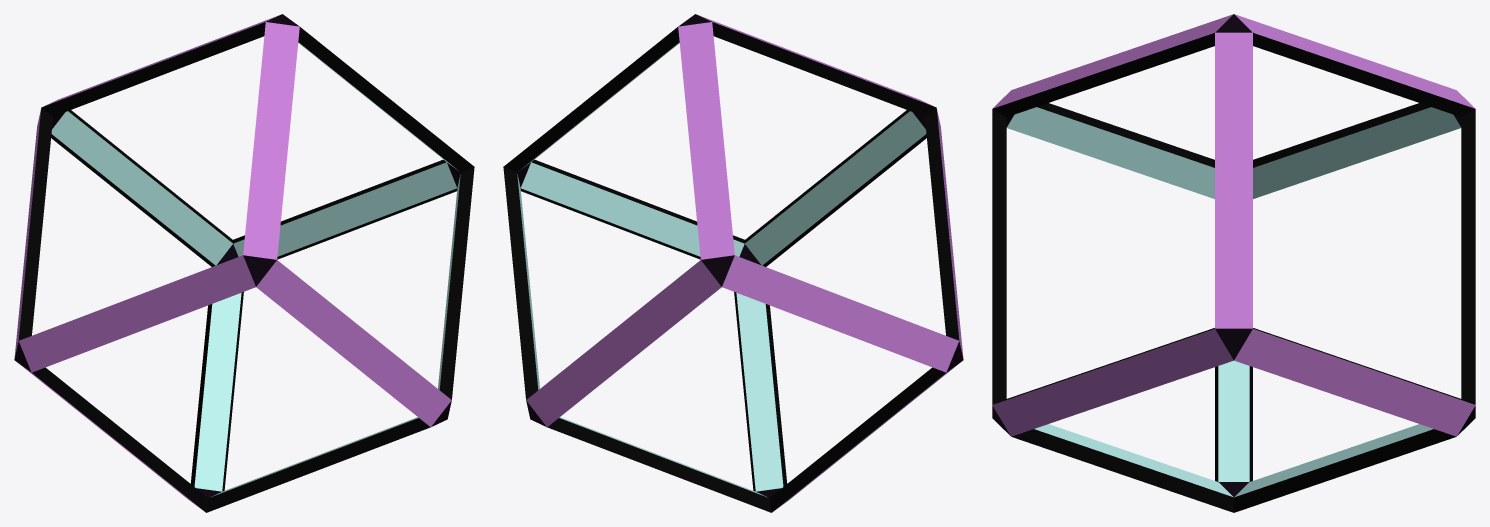
The model's file is aether.fbx.
3 renders of one model, left to right at view 1: azimuth 30°, elevation 25°; view 2: azimuth 150°, elevation 25°; view 3: azimuth 270°, elevation 25°, orthographic. The views are drawn at different scales.
Visible parts, largest first — view 1: Cube; view 2: Cube; view 3: Cube.
Part boxes in pixels (x1,y1,x2,y2): Cube: (14, 14, 474, 512); Cube: (503, 14, 963, 512); Cube: (992, 14, 1475, 512).
Bounding box in the file's own units: 312 × 312 × 262.
